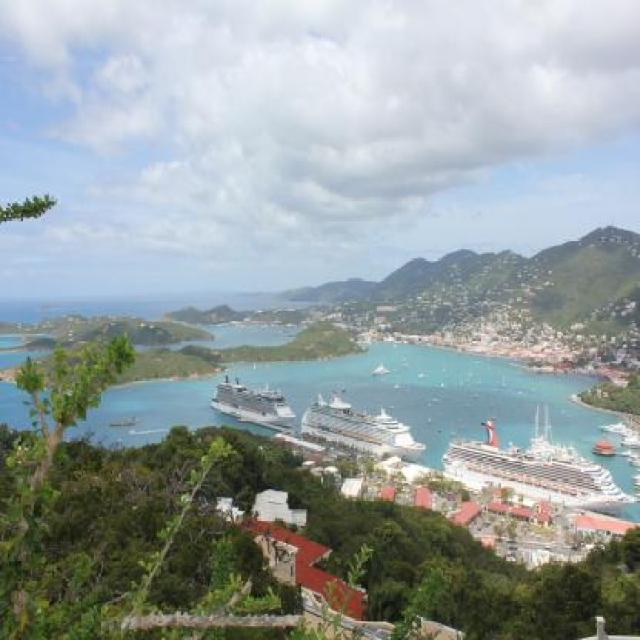ship: (441, 420, 636, 514), (302, 390, 426, 462), (210, 376, 295, 430), (524, 401, 578, 453), (597, 420, 631, 432)
